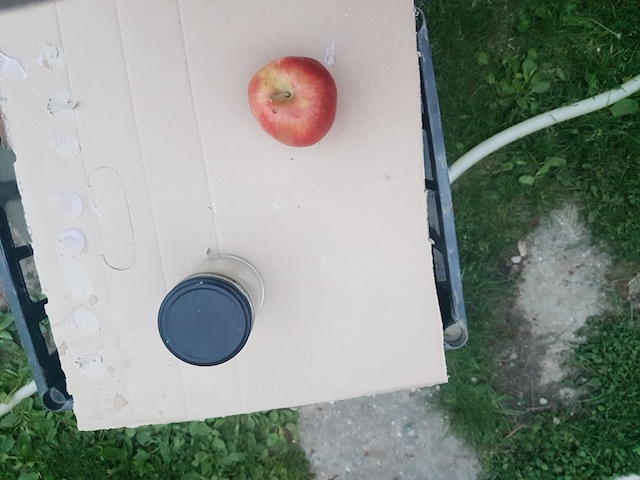apple: (246, 56, 342, 151)
recipient: (158, 281, 253, 367)
